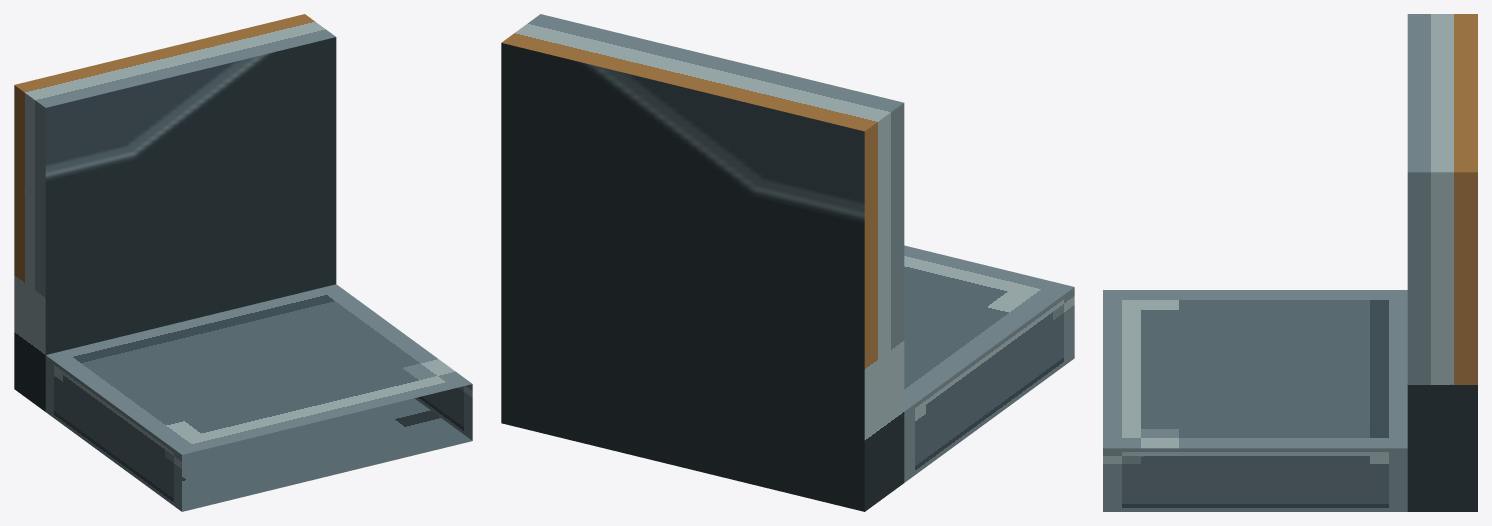
Rendered from casing_d3_front_x0_y-1.obj.
The picture shows the model from 3 angles, left to right: view 1: azimuth 30°, elevation 25°; view 2: azimuth 150°, elevation 25°; view 3: azimuth 270°, elevation 25°; orthographic projection. The views are drawn at different scales.
Visible parts, largest first — view 1: d3_front_x0_y-1; view 2: d3_front_x0_y-1; view 3: d3_front_x0_y-1.
Part boxes in pixels (box(x1,y1,x2,y2)): d3_front_x0_y-1: box(14, 14, 472, 511); d3_front_x0_y-1: box(501, 14, 1074, 511); d3_front_x0_y-1: box(1103, 14, 1477, 511).
Bounding box in the file's own units: 1 × 1 × 1.
